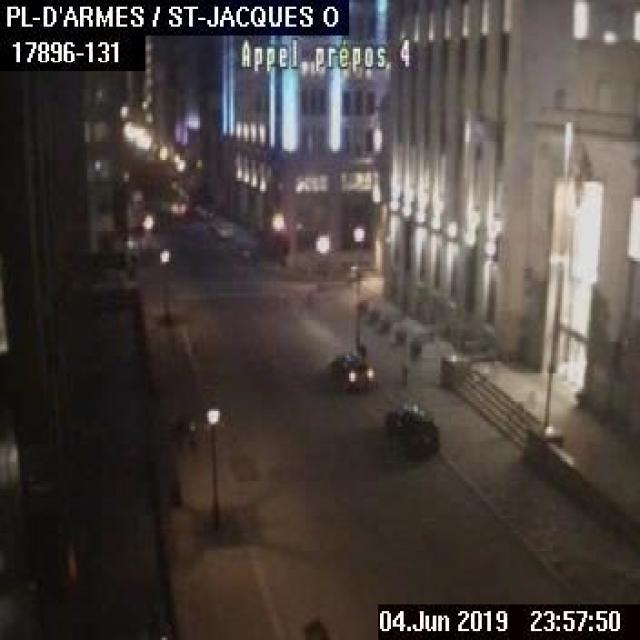vehicle: (382, 406, 436, 456), (327, 351, 374, 391), (213, 217, 233, 239), (168, 198, 184, 214)
